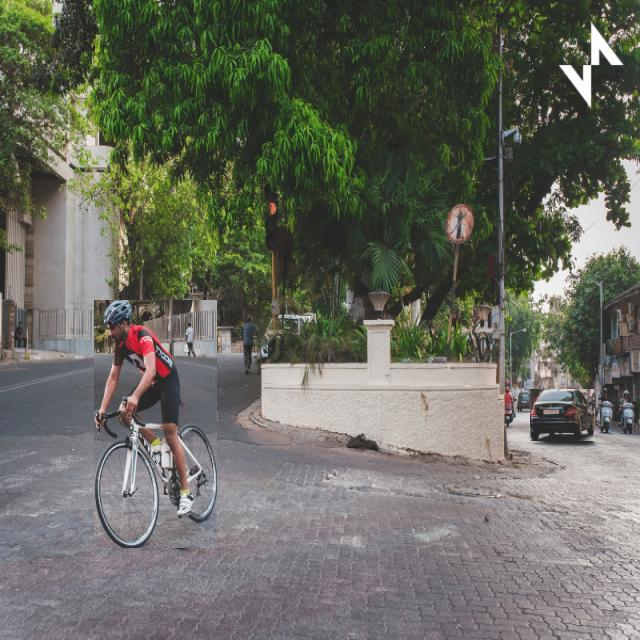bicycle: (95, 300, 217, 548)
car: (530, 390, 595, 441)
